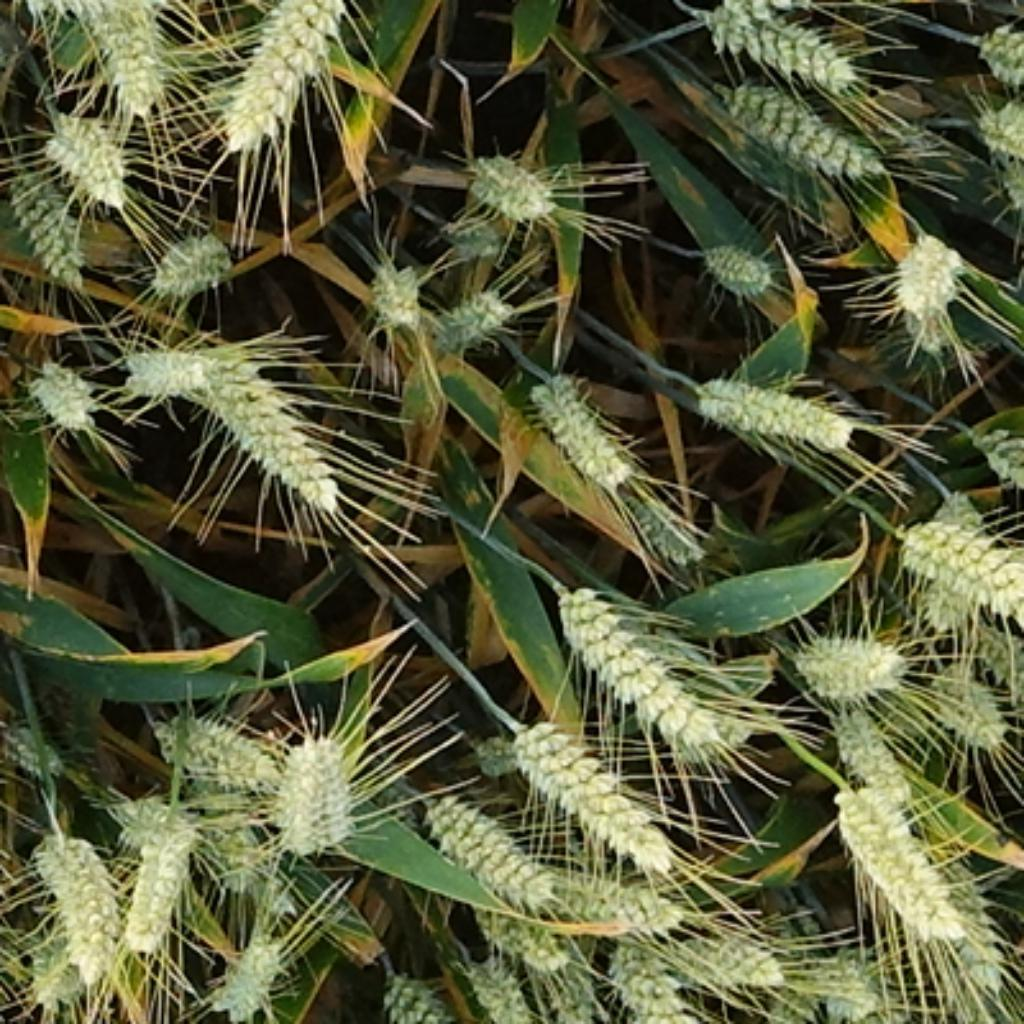0-0: (542, 568, 737, 760), (166, 332, 350, 522), (509, 711, 683, 867), (826, 778, 975, 947), (207, 0, 355, 158), (714, 76, 893, 186), (419, 783, 558, 906), (522, 355, 637, 486), (686, 360, 857, 448), (30, 819, 122, 975), (708, 1, 866, 88), (263, 716, 363, 849), (896, 522, 1021, 624), (0, 156, 92, 294), (151, 693, 279, 788), (81, 0, 179, 120), (110, 814, 194, 949), (936, 862, 1016, 1000), (783, 614, 911, 698), (921, 491, 993, 640), (33, 97, 135, 199), (545, 865, 688, 934), (189, 806, 284, 903), (926, 652, 1008, 762), (665, 926, 788, 998), (614, 471, 709, 563), (826, 701, 916, 793), (460, 135, 560, 215), (803, 944, 903, 1024), (115, 327, 225, 399), (200, 930, 282, 1024), (143, 215, 240, 294), (604, 939, 693, 1024), (890, 232, 970, 322), (110, 785, 197, 862), (970, 89, 1024, 207), (481, 903, 573, 972), (424, 276, 512, 348), (32, 355, 106, 434), (373, 959, 458, 1024), (693, 227, 775, 291), (363, 248, 427, 327), (23, 924, 84, 1006), (0, 717, 66, 791), (465, 954, 535, 1021), (366, 752, 422, 829), (965, 417, 1024, 488), (542, 957, 604, 1024), (975, 15, 1024, 89), (440, 204, 504, 256), (896, 307, 960, 355), (468, 716, 519, 770)
